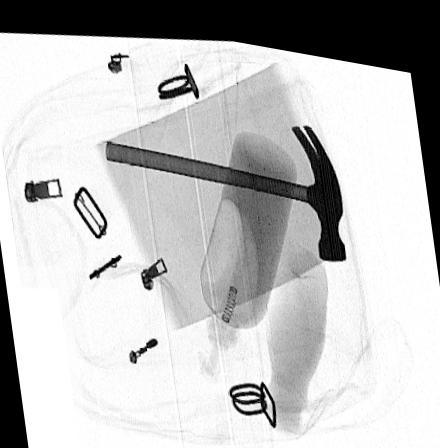Hammer: (102, 113, 347, 252)
